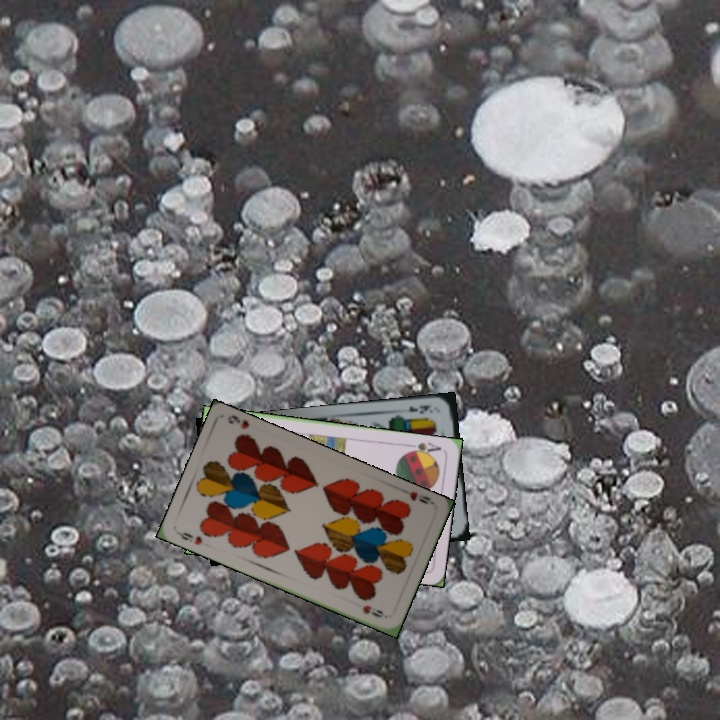EK: (405, 401, 435, 416)
H9: (397, 485, 436, 507), (174, 528, 205, 547)
SA: (403, 438, 444, 459)
